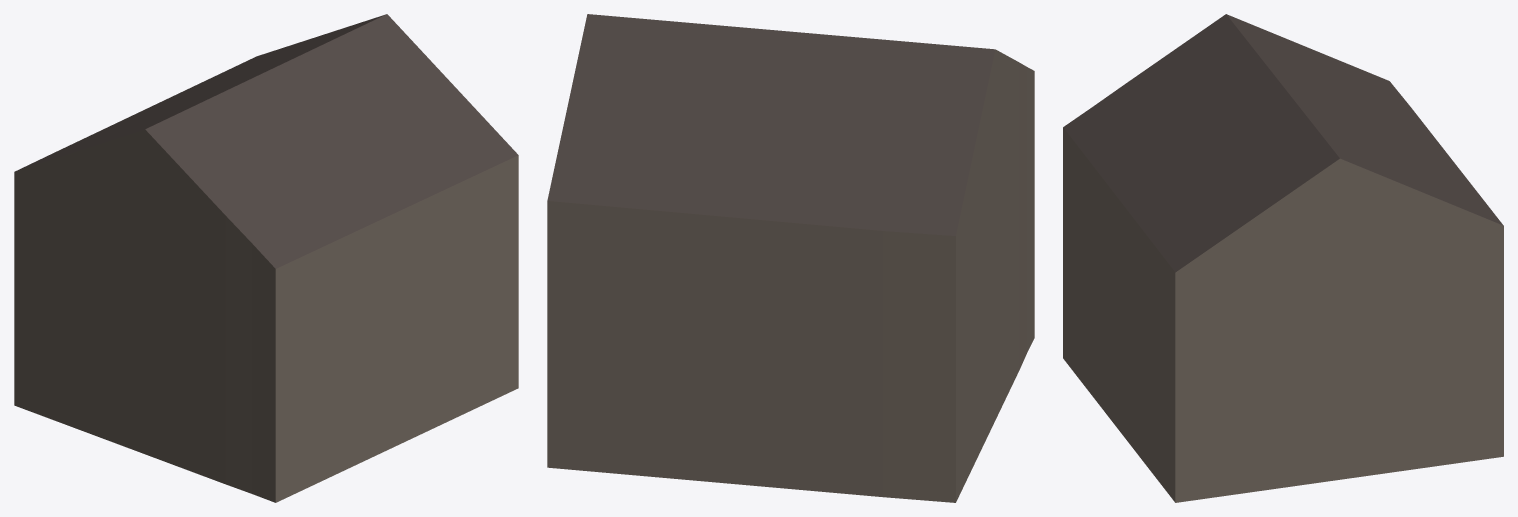
3 renders of one model, left to right at view 1: azimuth 30°, elevation 25°; view 2: azimuth 150°, elevation 25°; view 3: azimuth 270°, elevation 25°, orthographic. The views are drawn at different scales.
Parts seen in each view (by area): view 1: HP-w1198645095; view 2: HP-w1198645095; view 3: HP-w1198645095.
Boxes of the visible parts, left/top/right/bottom form: HP-w1198645095: left=14, top=14, right=518, bottom=502; HP-w1198645095: left=547, top=14, right=1034, bottom=502; HP-w1198645095: left=1063, top=14, right=1503, bottom=502.
Bounding box in the file's own units: 10.66 × 8.36 × 10.4.
